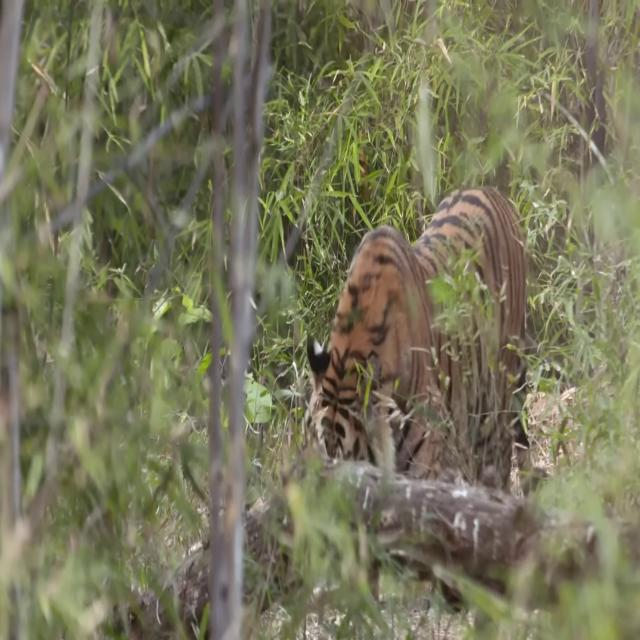tiger: (304, 182, 532, 516)
